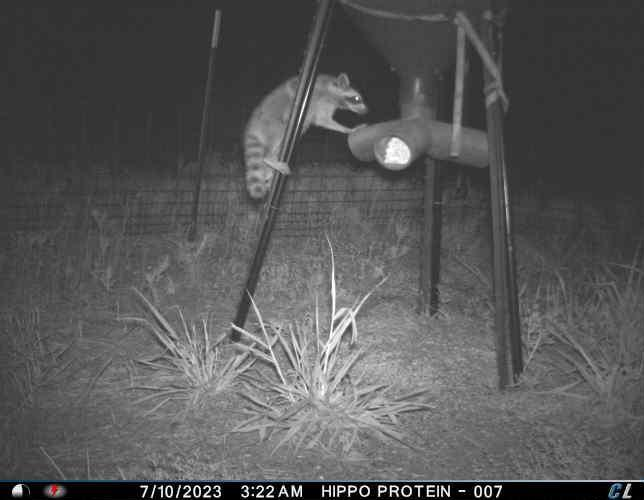Raccoon: (238, 69, 368, 198)
